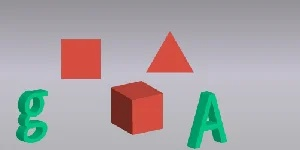三角形: (145, 31, 197, 75)
大写字母: (187, 91, 230, 150)
小写字母: (13, 88, 51, 144)
正方体: (108, 80, 165, 136)
正方形: (59, 36, 104, 82)
